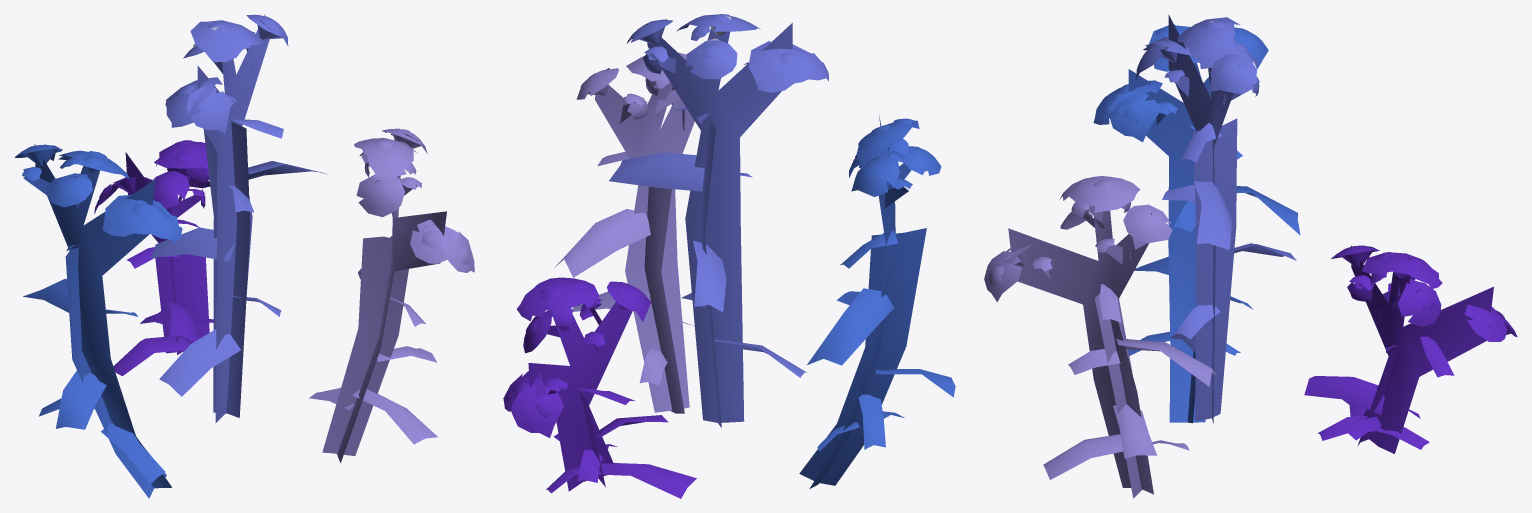
Rendered from SM_Yarrow3.FBX.
3 renders of one model, left to right at view 1: azimuth 30°, elevation 25°; view 2: azimuth 150°, elevation 25°; view 3: azimuth 270°, elevation 25°, orthographic. The views are drawn at different scales.
Visible parts, largest first — view 1: SM_Yarrow3_LOD0; view 2: SM_Yarrow3_LOD0; view 3: SM_Yarrow3_LOD0.
Part boxes in pixels (x1,y1,x2,y2): SM_Yarrow3_LOD0: (15, 14, 474, 498); SM_Yarrow3_LOD0: (503, 14, 955, 498); SM_Yarrow3_LOD0: (984, 14, 1517, 498).
Bounding box in the file's own units: 45.13 × 56.41 × 51.61.
